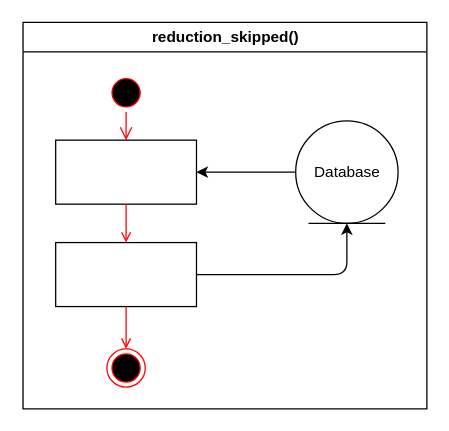
Image size: 449x431. Some labels were removed from this diagram. The shapes that lost their labels are listed below. From the top down, each one's centre as x and y in pixels, then its label:
At (x=125, y=171): "Get Reduction Run".
At (x=125, y=274): "Set Status Skipped".
